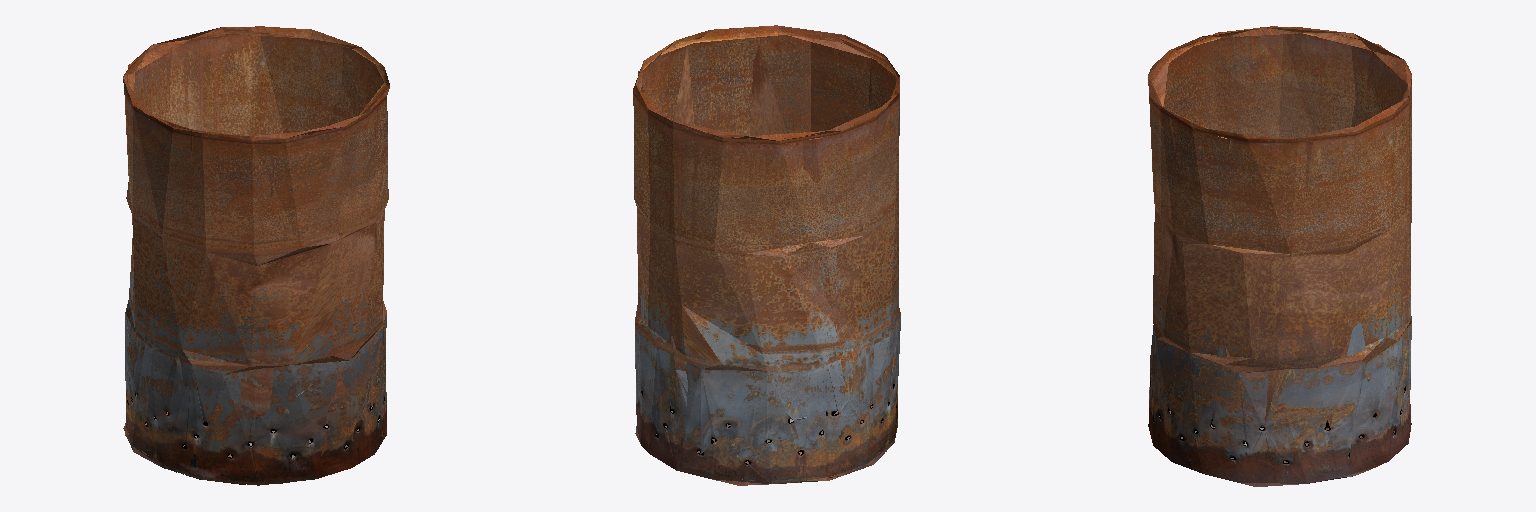
3 renders of one model, left to right at view 1: azimuth 30°, elevation 25°; view 2: azimuth 150°, elevation 25°; view 3: azimuth 270°, elevation 25°, orthographic.
Visible parts, largest first — view 1: barrel_stove; view 2: barrel_stove; view 3: barrel_stove.
Part boxes in pixels (x1,y1,x2,y2): barrel_stove: (123, 26, 389, 485); barrel_stove: (633, 25, 900, 485); barrel_stove: (1148, 26, 1411, 486).
Bounding box in the file's own units: 0.5889 × 0.8574 × 0.5843.
Materials: 1 (1 with a texture image).